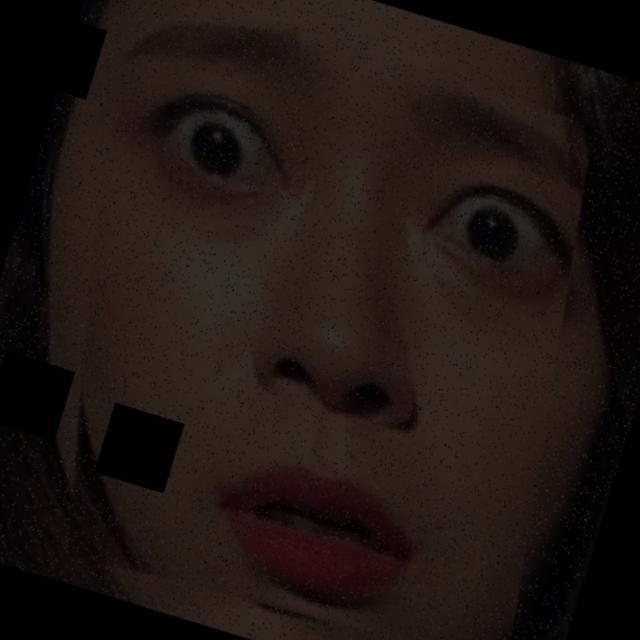Surprised: (55, 33, 573, 626)
